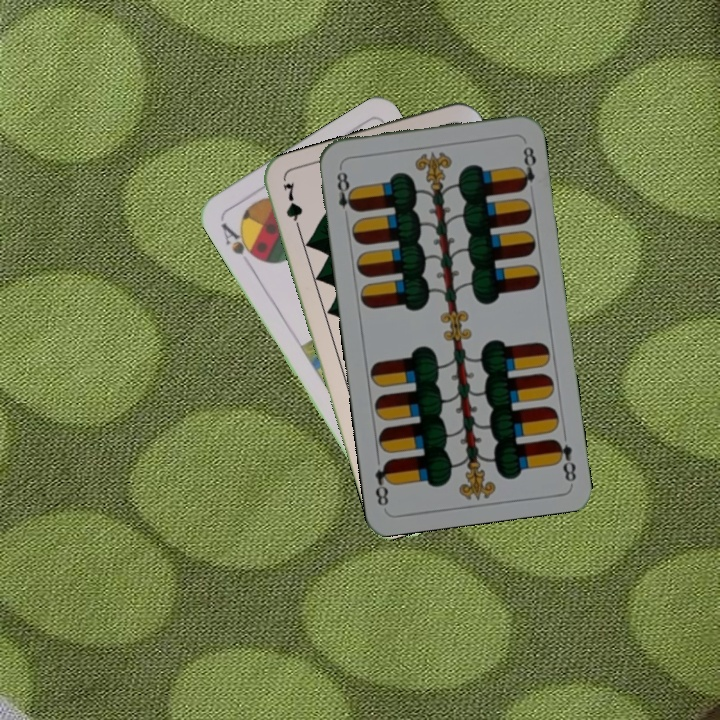E8: (550, 426, 579, 485), (333, 163, 359, 214)
G7: (278, 178, 305, 237)
SA: (216, 218, 262, 263)
